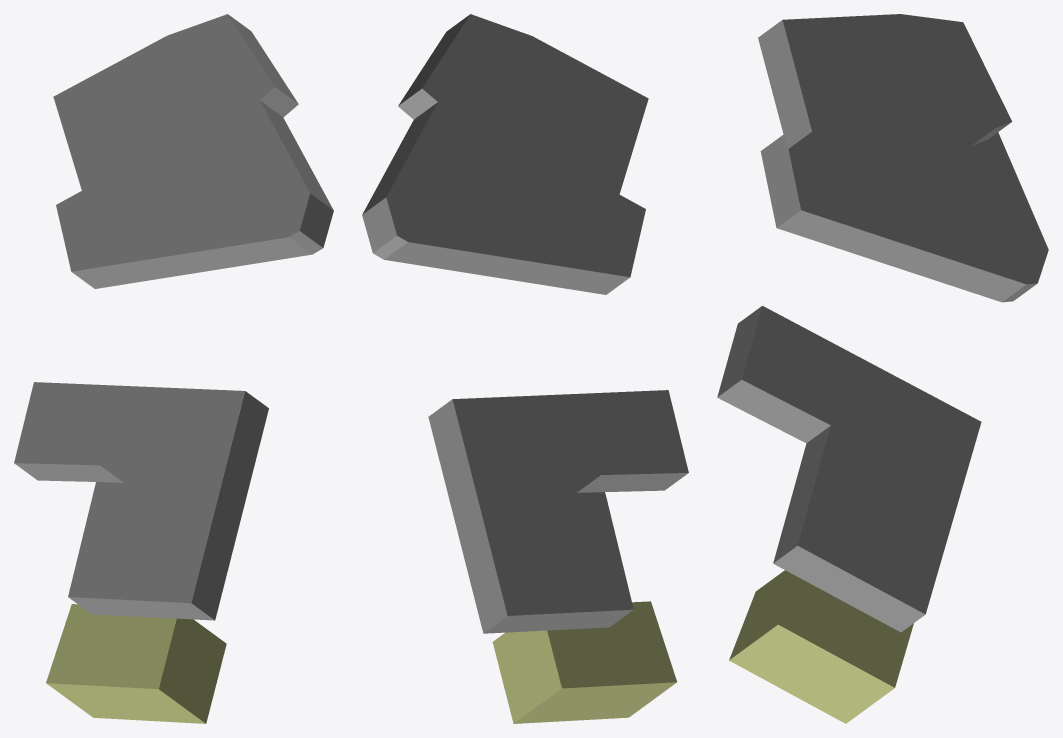
3 renders of one model, left to right at view 1: azimuth 30°, elevation 25°; view 2: azimuth 150°, elevation 25°; view 3: azimuth 330°, elevation 25°, orthographic. The views are drawn at different scales.
Parts seen in each view (by area): view 1: 0_1_0_2_1_3_0_3_2; view 2: 0_1_0_2_1_3_0_3_2; view 3: 0_1_0_2_1_3_0_3_2.
Part boxes in pixels (box(x1,y1,x2,y2)): 0_1_0_2_1_3_0_3_2: box(14, 14, 333, 723); 0_1_0_2_1_3_0_3_2: box(362, 14, 688, 723); 0_1_0_2_1_3_0_3_2: box(717, 14, 1048, 723).
Bounding box in the file's own units: 21.63 × 46.05 × 6.
